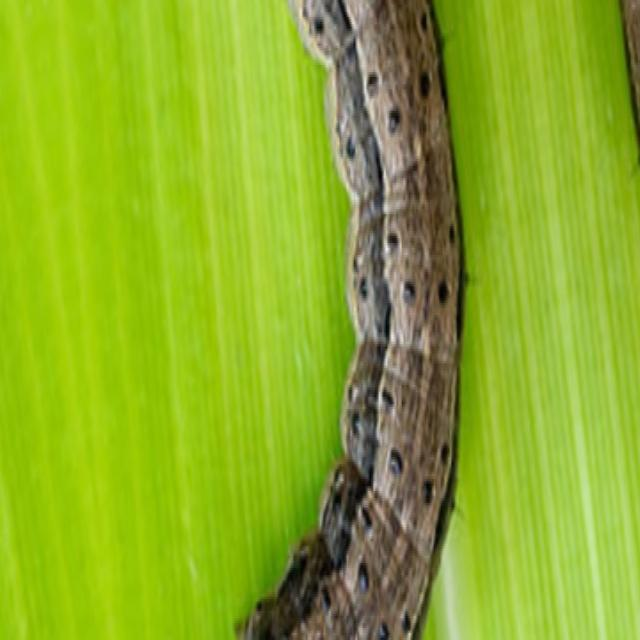armyworm: (231, 0, 468, 638)
